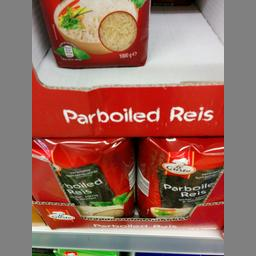rice: (32, 137, 135, 217), (38, 0, 150, 67), (136, 136, 224, 218)
